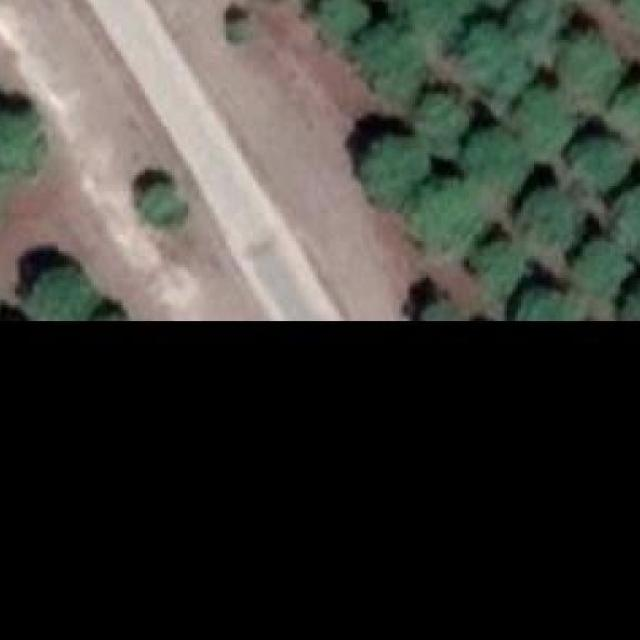Tree: (412, 189, 485, 260), (361, 137, 429, 213), (364, 26, 430, 99), (458, 19, 516, 100), (20, 267, 105, 319), (521, 189, 589, 254), (466, 135, 529, 200), (568, 38, 620, 106), (575, 135, 635, 193), (520, 88, 572, 154), (418, 91, 465, 153), (516, 0, 562, 62), (0, 116, 48, 175), (474, 244, 526, 298), (572, 245, 631, 292), (315, 0, 369, 45), (415, 0, 483, 35), (518, 286, 586, 319), (143, 184, 189, 227), (618, 188, 640, 262), (620, 86, 640, 143), (620, 272, 640, 321), (226, 18, 254, 46), (424, 296, 462, 316), (622, 0, 640, 42)
